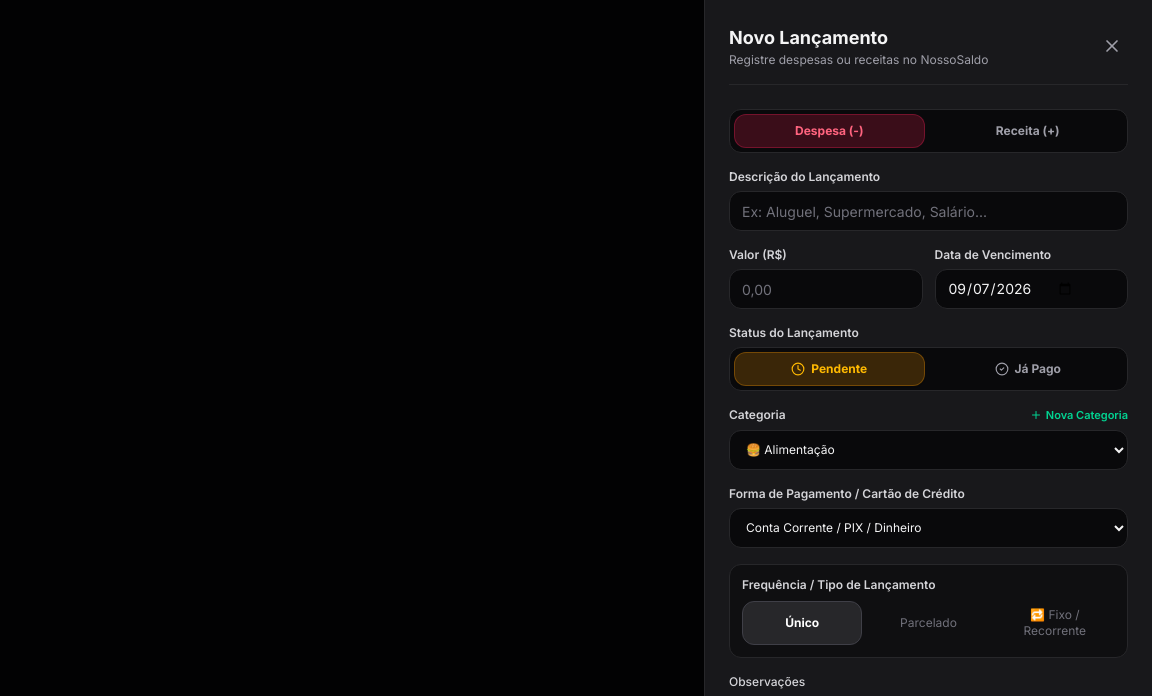
Lançamento Já Pago e Vencimento Automático de Cartão de Crédito › Formulário de Lançamento (ExpenseDrawerForm) › sugere a fatura em aberto quando a data atual ainda nao chegou ao fechamento
Select "Nubank Roxinho (Final e64a) • Venc. dia 17" in the dropdown labelled "Forma de Pagamento / Cartão de Crédito" at coordinates (928, 528), box [729, 508, 1128, 548]
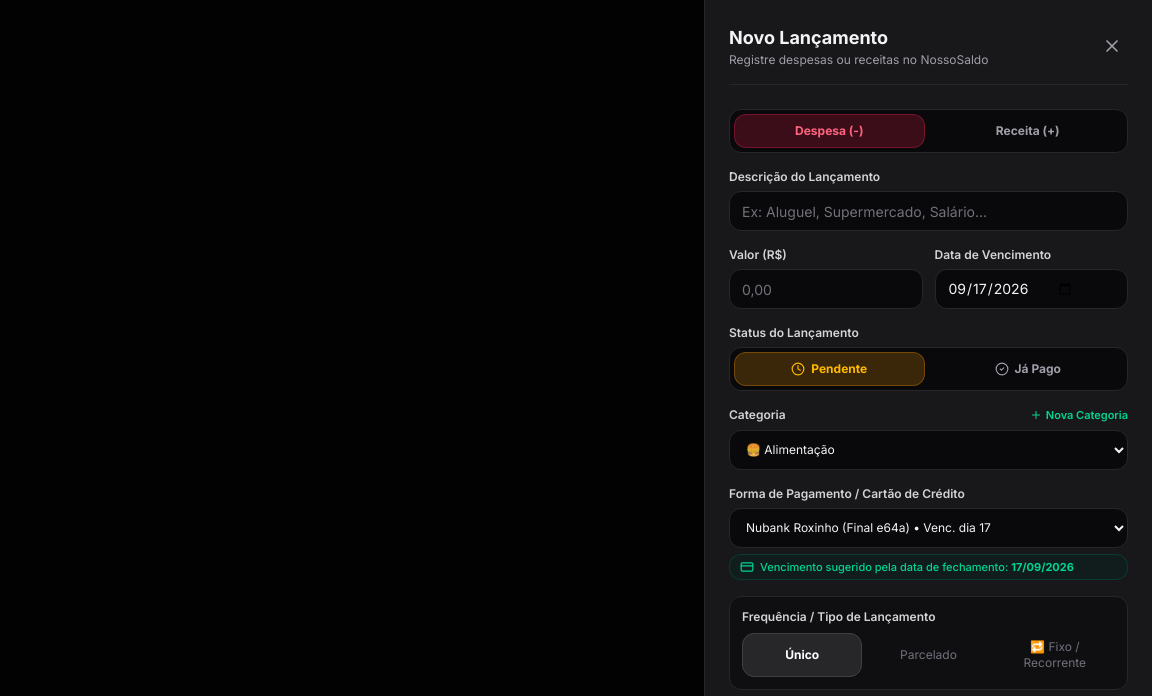
Expected: the date field labelled "Data de Vencimento" holds "2026-09-17", [934, 269, 1128, 309]
